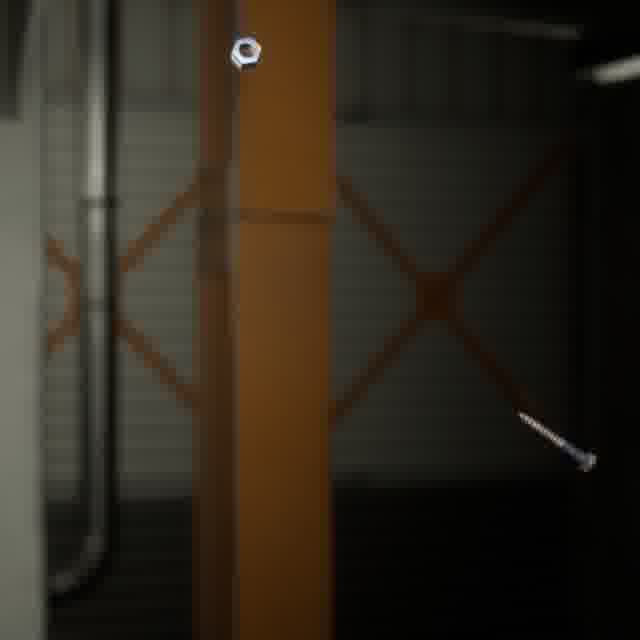bolt: (512, 406, 601, 476)
nut: (225, 33, 266, 73)
